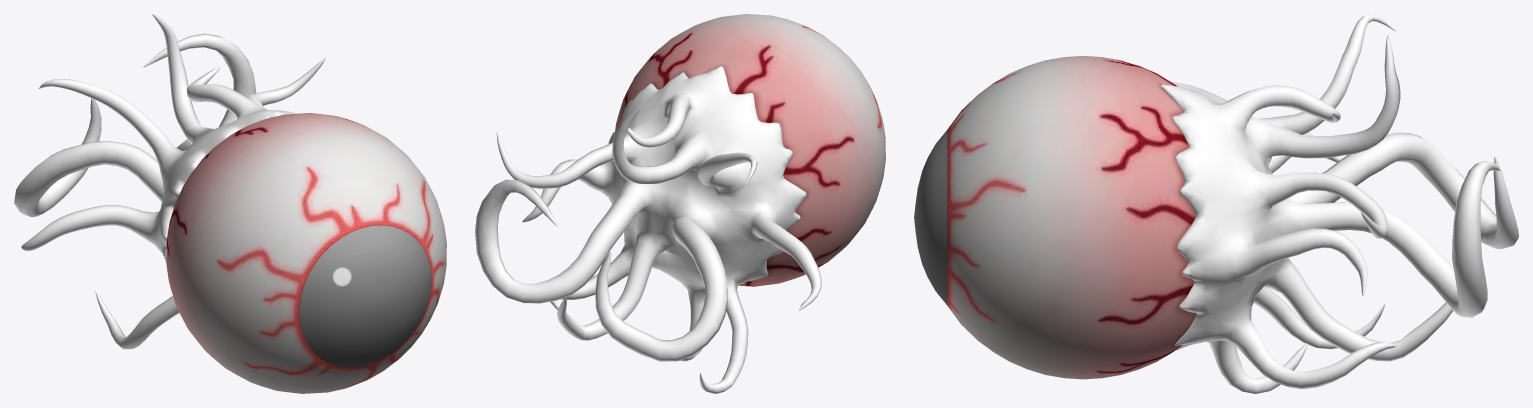
Rendered from yakushimaboss001_5443f6.glb.
3 renders of one model, left to right at view 1: azimuth 30°, elevation 25°; view 2: azimuth 150°, elevation 25°; view 3: azimuth 270°, elevation 25°, orthographic. The views are drawn at different scales.
Bounding box in the file's own units: 3.43 × 3.17 × 4.93.
5 materials, 4 textured.
